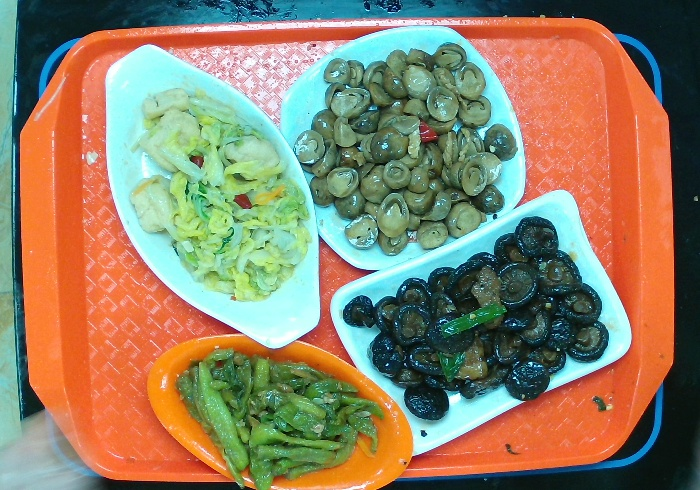RJxy-Ju_Huang_Tuo_Yuan: (137, 326, 419, 490)
RJxy-Si_Fang_Ao_Bian_Wan: (325, 185, 637, 459)
RJxy-Si_Fang_Die: (276, 19, 530, 280)
RJxy-Yu_Pan: (93, 30, 327, 351)
